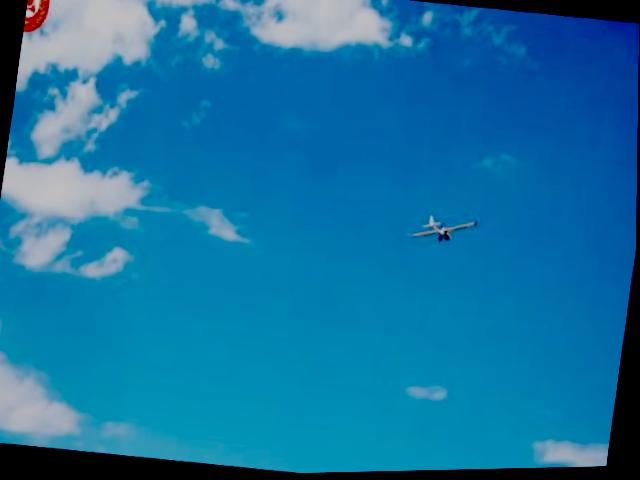uav: (402, 207, 484, 257)
